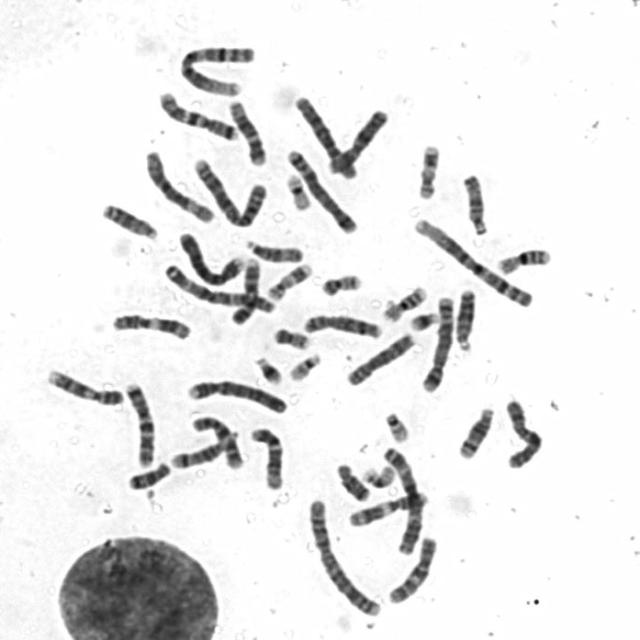A1: (410, 218, 536, 308), (177, 44, 257, 98)
A2: (308, 498, 381, 618), (192, 157, 267, 230)
A3: (164, 261, 278, 314), (378, 446, 425, 555)
B4: (177, 230, 246, 286), (184, 380, 288, 415)
B5: (285, 149, 359, 235), (421, 297, 456, 395)
C10: (385, 535, 440, 604), (189, 416, 243, 471)
C11: (346, 489, 429, 527), (111, 314, 195, 342)
C12: (225, 99, 267, 166), (249, 424, 286, 491)
C6: (293, 95, 360, 182), (142, 151, 216, 225)
C7: (153, 91, 240, 142), (122, 382, 157, 469)
C8: (346, 331, 417, 388), (302, 312, 384, 340)
C9: (46, 368, 124, 408), (228, 258, 260, 328)
D13: (100, 202, 161, 242), (453, 288, 478, 352)
D14: (169, 430, 240, 470), (454, 405, 495, 461)
D15: (463, 173, 490, 236), (244, 239, 306, 264)
E16: (381, 284, 428, 324), (497, 248, 551, 277)
E17: (265, 263, 314, 303), (416, 142, 444, 202)
E18: (332, 462, 372, 503), (126, 461, 172, 492)
F19: (283, 173, 313, 212), (361, 464, 396, 489)
F20: (320, 273, 364, 298), (273, 328, 311, 350)
G21: (253, 354, 284, 386), (407, 311, 439, 334)
G22: (378, 408, 411, 444), (286, 351, 322, 382)
X: (327, 108, 388, 176), (504, 399, 544, 471)
